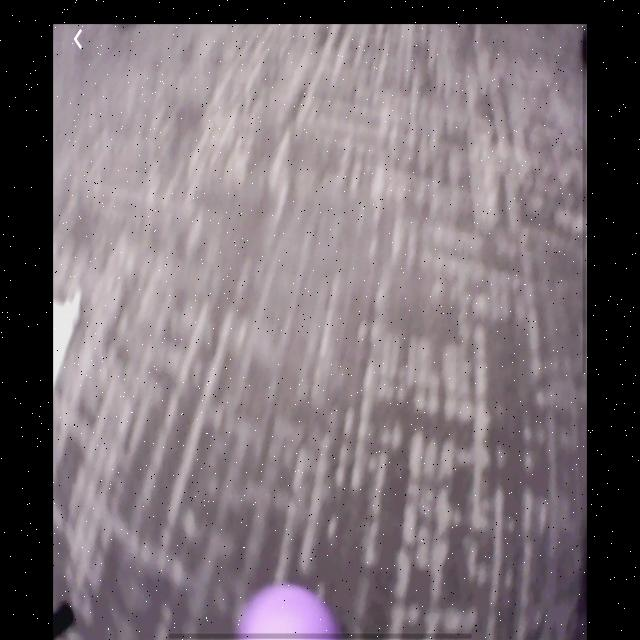ball: (236, 582, 342, 639)
